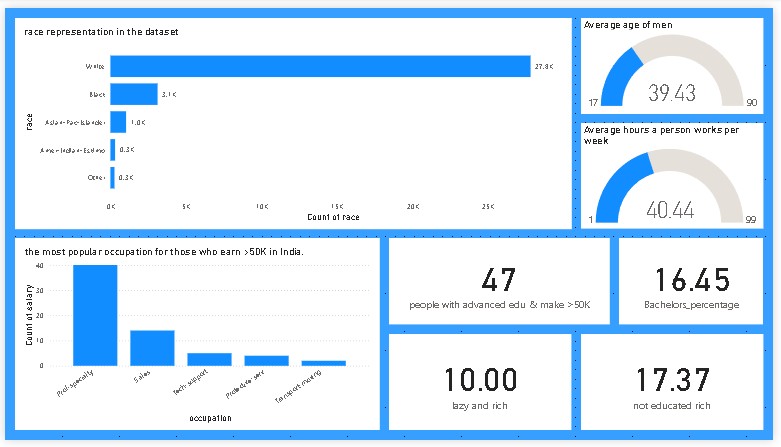

The page's visual inventory and layout, read from the dashboard file:
{"tool":"powerbi","page":{"name":"sample 01","canvas":[1280,720],"ordinal":0},"visuals":[{"type":"clusteredBarChart","title":"race representation in the dataset","fields":{"Category":["adult data.race"],"Y":["CountNonNull(adult data.race)"]},"box":[16,16,928,352],"z":0},{"type":"gauge","title":"Average age of men","fields":{"Y":["Avg(adult data.age)"],"MinValue":["Min(adult data.age)"],"MaxValue":["Max(adult data.age)"]},"box":[960,16,304,160],"z":1000},{"type":"card","fields":{"Values":["adult data.Bachelors_percentage"]},"box":[1024,384,240,144],"z":2000},{"type":"card","fields":{"Values":["adult data.Rich Educated Percentage"]},"box":[640,384,368,144],"z":3000},{"type":"card","fields":{"Values":["adult data.not educated rich"]},"box":[960,544,304,160],"z":4000},{"type":"gauge","title":"Average hours a person works per week","fields":{"Y":["Avg(adult data.hours-per-week)"],"MinValue":["Min(adult data.hours-per-week)"],"MaxValue":["Max(adult data.hours-per-week)"]},"box":[960,192,304,176],"z":5000},{"type":"card","fields":{"Values":["adult data.lazy and rich"]},"box":[640,544,304,160],"z":6000},{"type":"columnChart","title":"the most popular occupation for those who earn >50K in India.","fields":{"Category":["adult data.occupation"],"Y":["CountNonNull(adult data.salary)"]},"box":[16,384,608,320],"z":7000}]}

Visuals, with their boxes in screenshot pixels (x1, y1, x2, y2), scaled from the page's 1280x720 canvas onto the 781x447 screenshot:
"race representation in the dataset" clusteredBarChart: region(10, 10, 576, 228)
"Average age of men" gauge: region(586, 10, 771, 109)
card - adult data.Bachelors_percentage: region(625, 238, 771, 328)
card - adult data.Rich Educated Percentage: region(390, 238, 615, 328)
card - adult data.not educated rich: region(586, 338, 771, 437)
"Average hours a person works per week" gauge: region(586, 119, 771, 228)
card - adult data.lazy and rich: region(390, 338, 576, 437)
"the most popular occupation for those who earn >50K in India." columnChart: region(10, 238, 381, 437)
